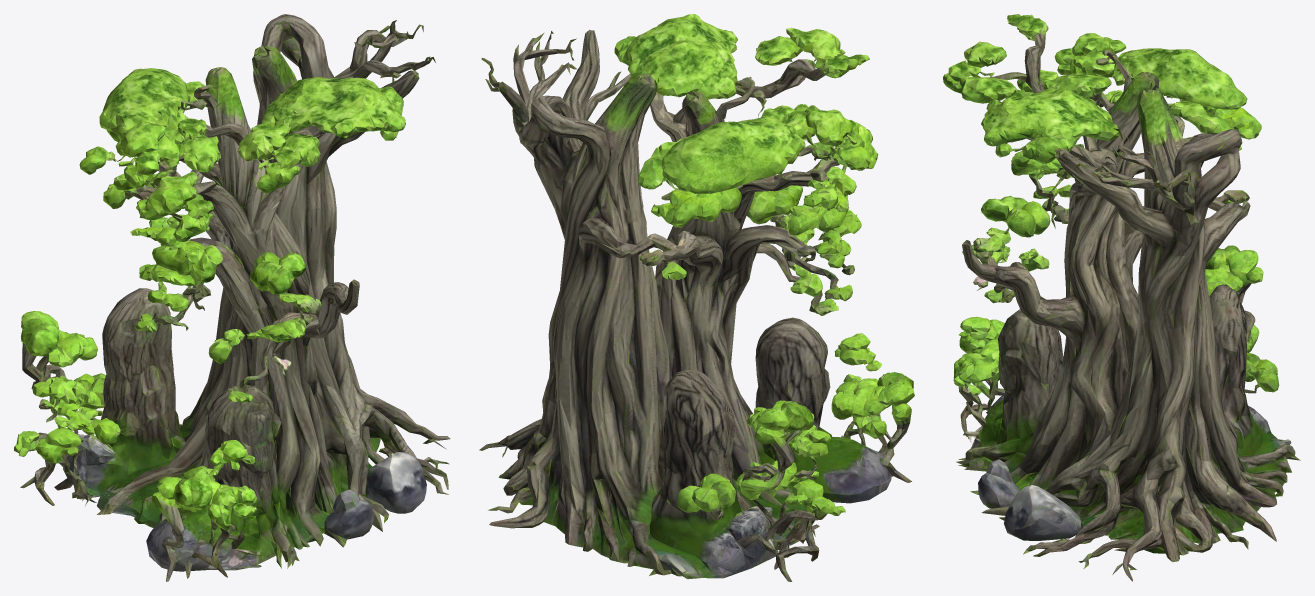
The model's file is ancient-grove.glb.
The picture shows the model from 3 angles, left to right: view 1: azimuth 30°, elevation 25°; view 2: azimuth 150°, elevation 25°; view 3: azimuth 270°, elevation 25°; orthographic projection. The views are drawn at different scales.
Size of the model in its own units: 1.83 by 1.89 by 1.47.
Materials: 1 (1 with a texture image).
